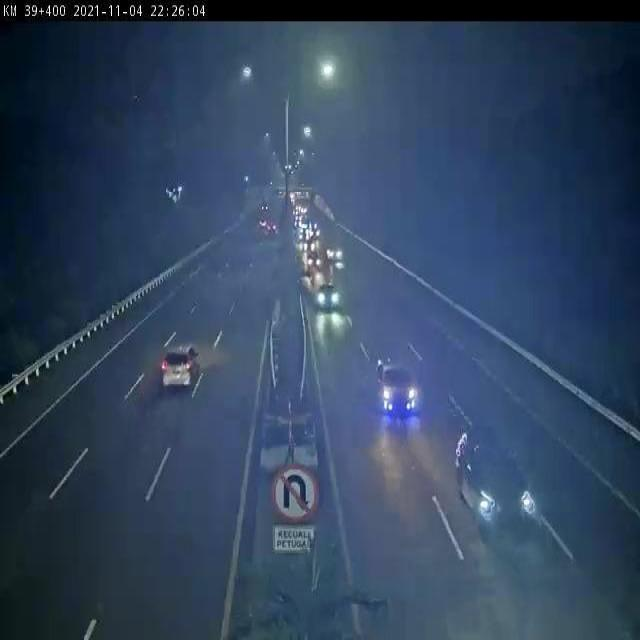Car: (454, 424, 534, 525), (376, 357, 417, 416), (162, 345, 200, 388), (316, 284, 340, 309), (307, 250, 320, 271), (266, 222, 277, 234), (259, 219, 267, 228)
